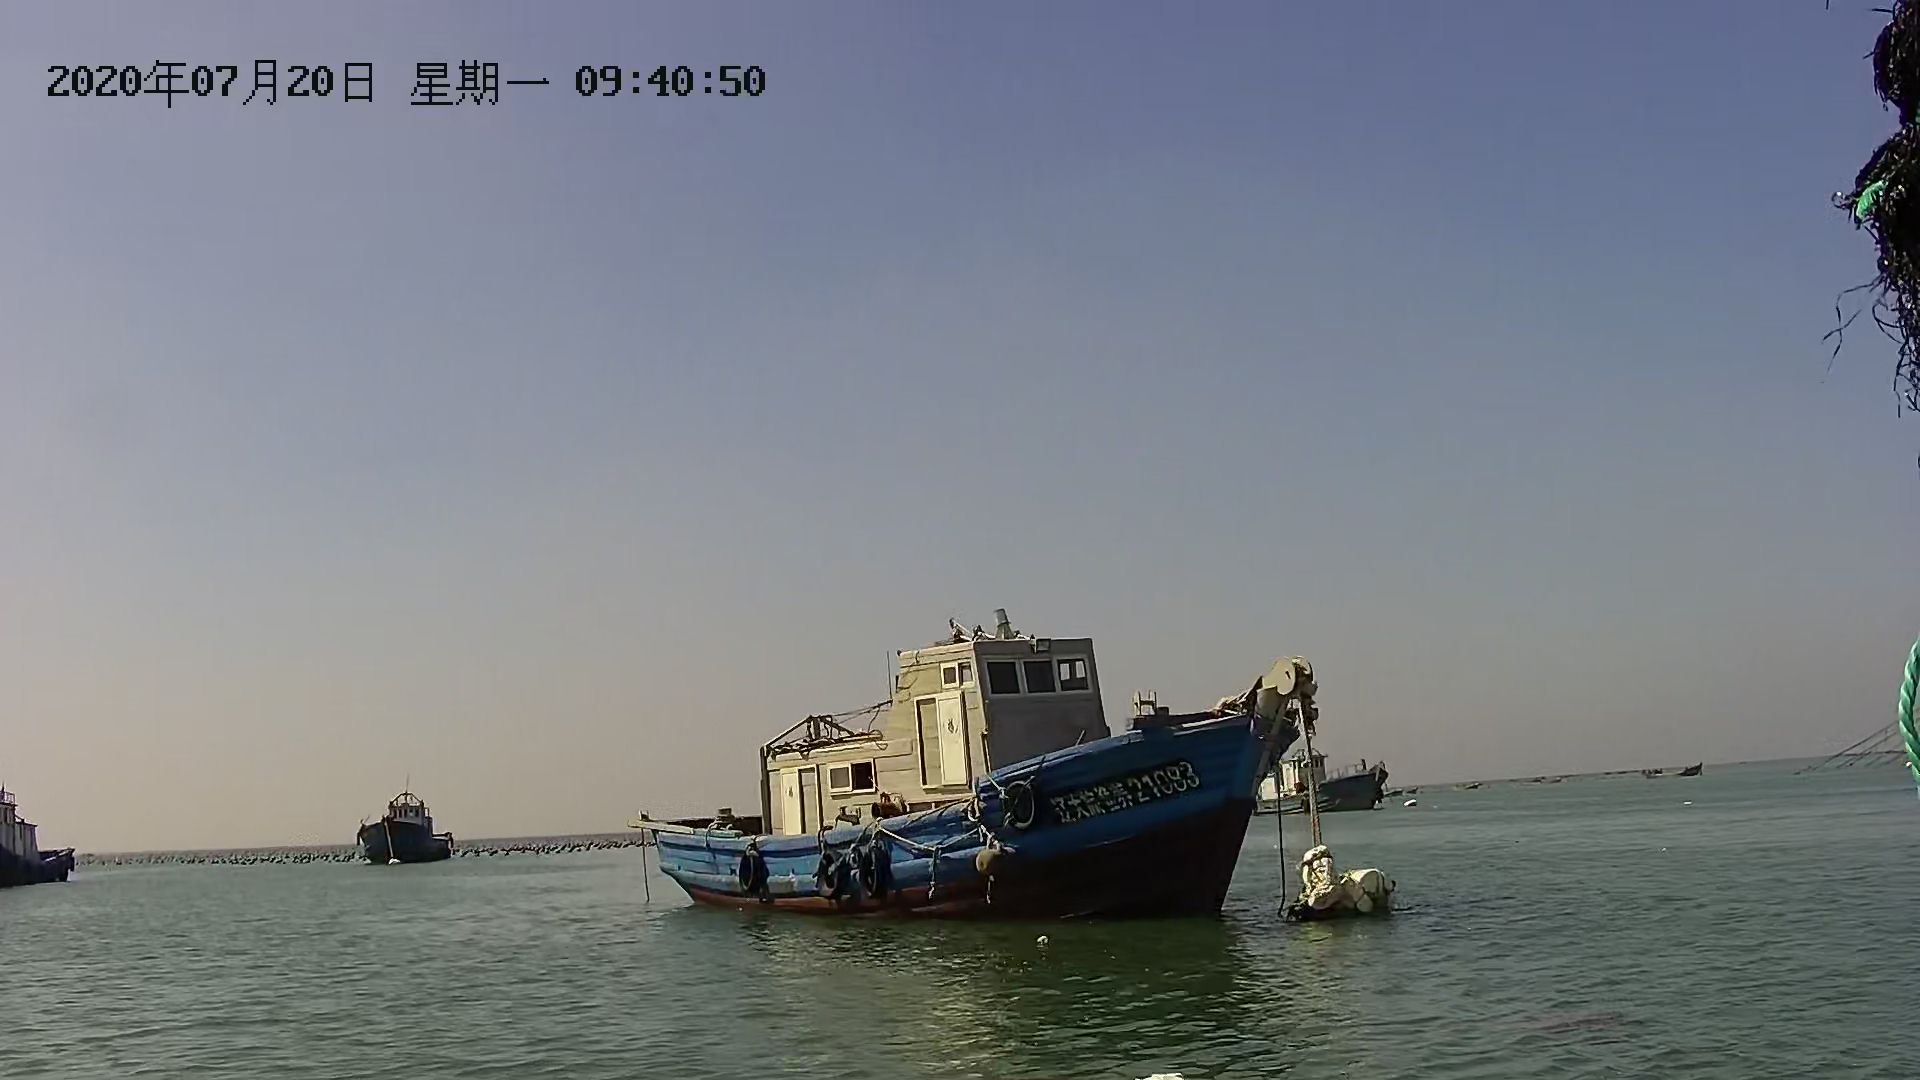boat: (1638, 761, 1706, 785)
rubbish: (1274, 849, 1407, 927)
ship: (637, 625, 1304, 949), (1230, 749, 1393, 822), (357, 783, 465, 869), (1, 785, 80, 891)
